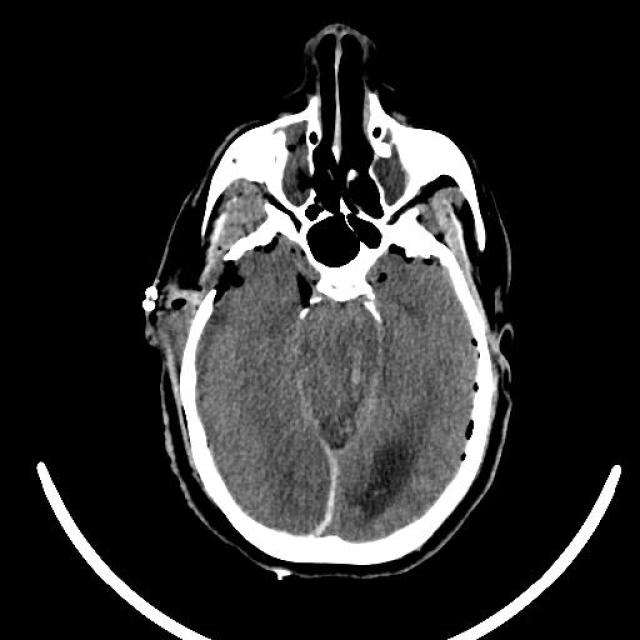Subdural: (284, 421, 368, 551)
